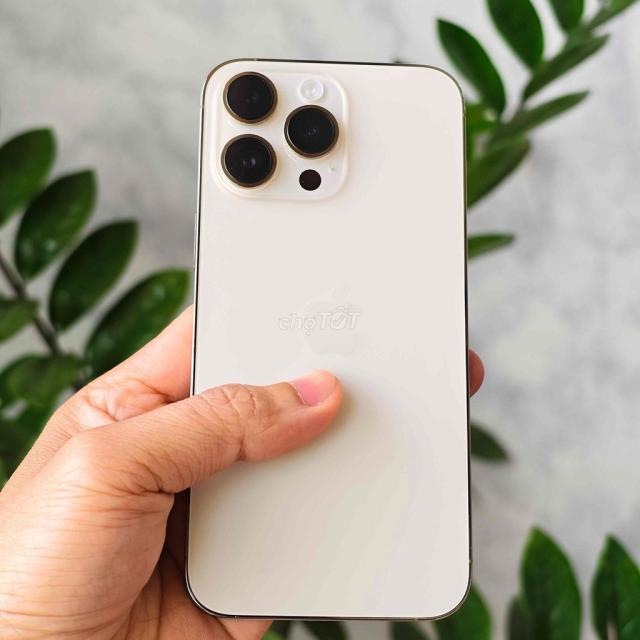gen_14: (171, 48, 486, 626)
